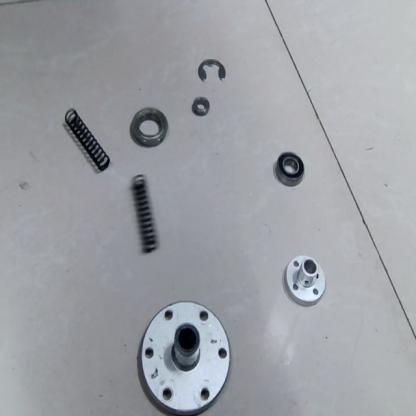FOD: (137, 298, 233, 415), (61, 100, 115, 175), (127, 166, 161, 257), (280, 250, 327, 311), (128, 108, 170, 152), (274, 147, 307, 189), (196, 57, 228, 87), (188, 95, 212, 120)
